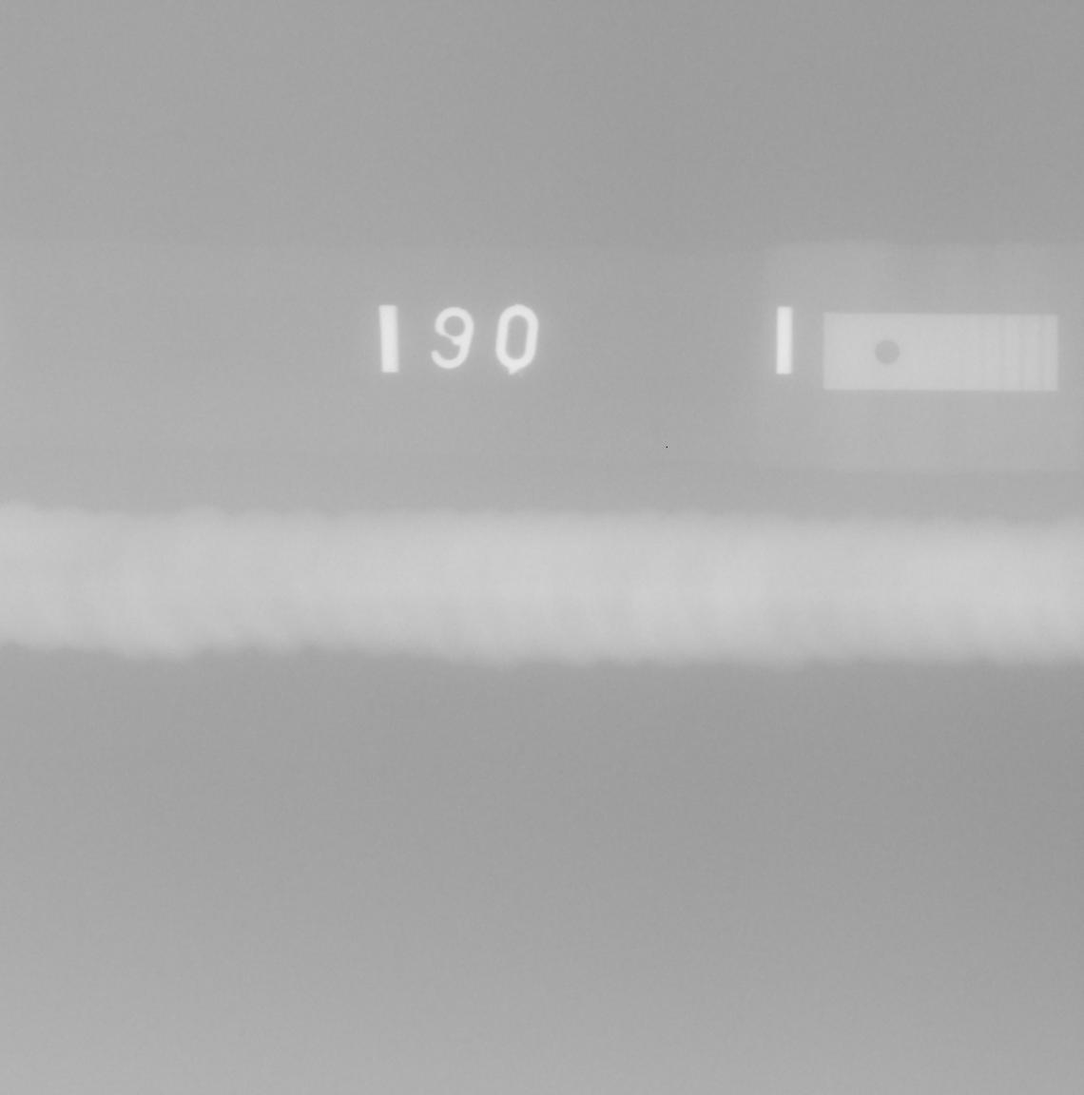Reference Standard 1: (822, 313, 1057, 391)
